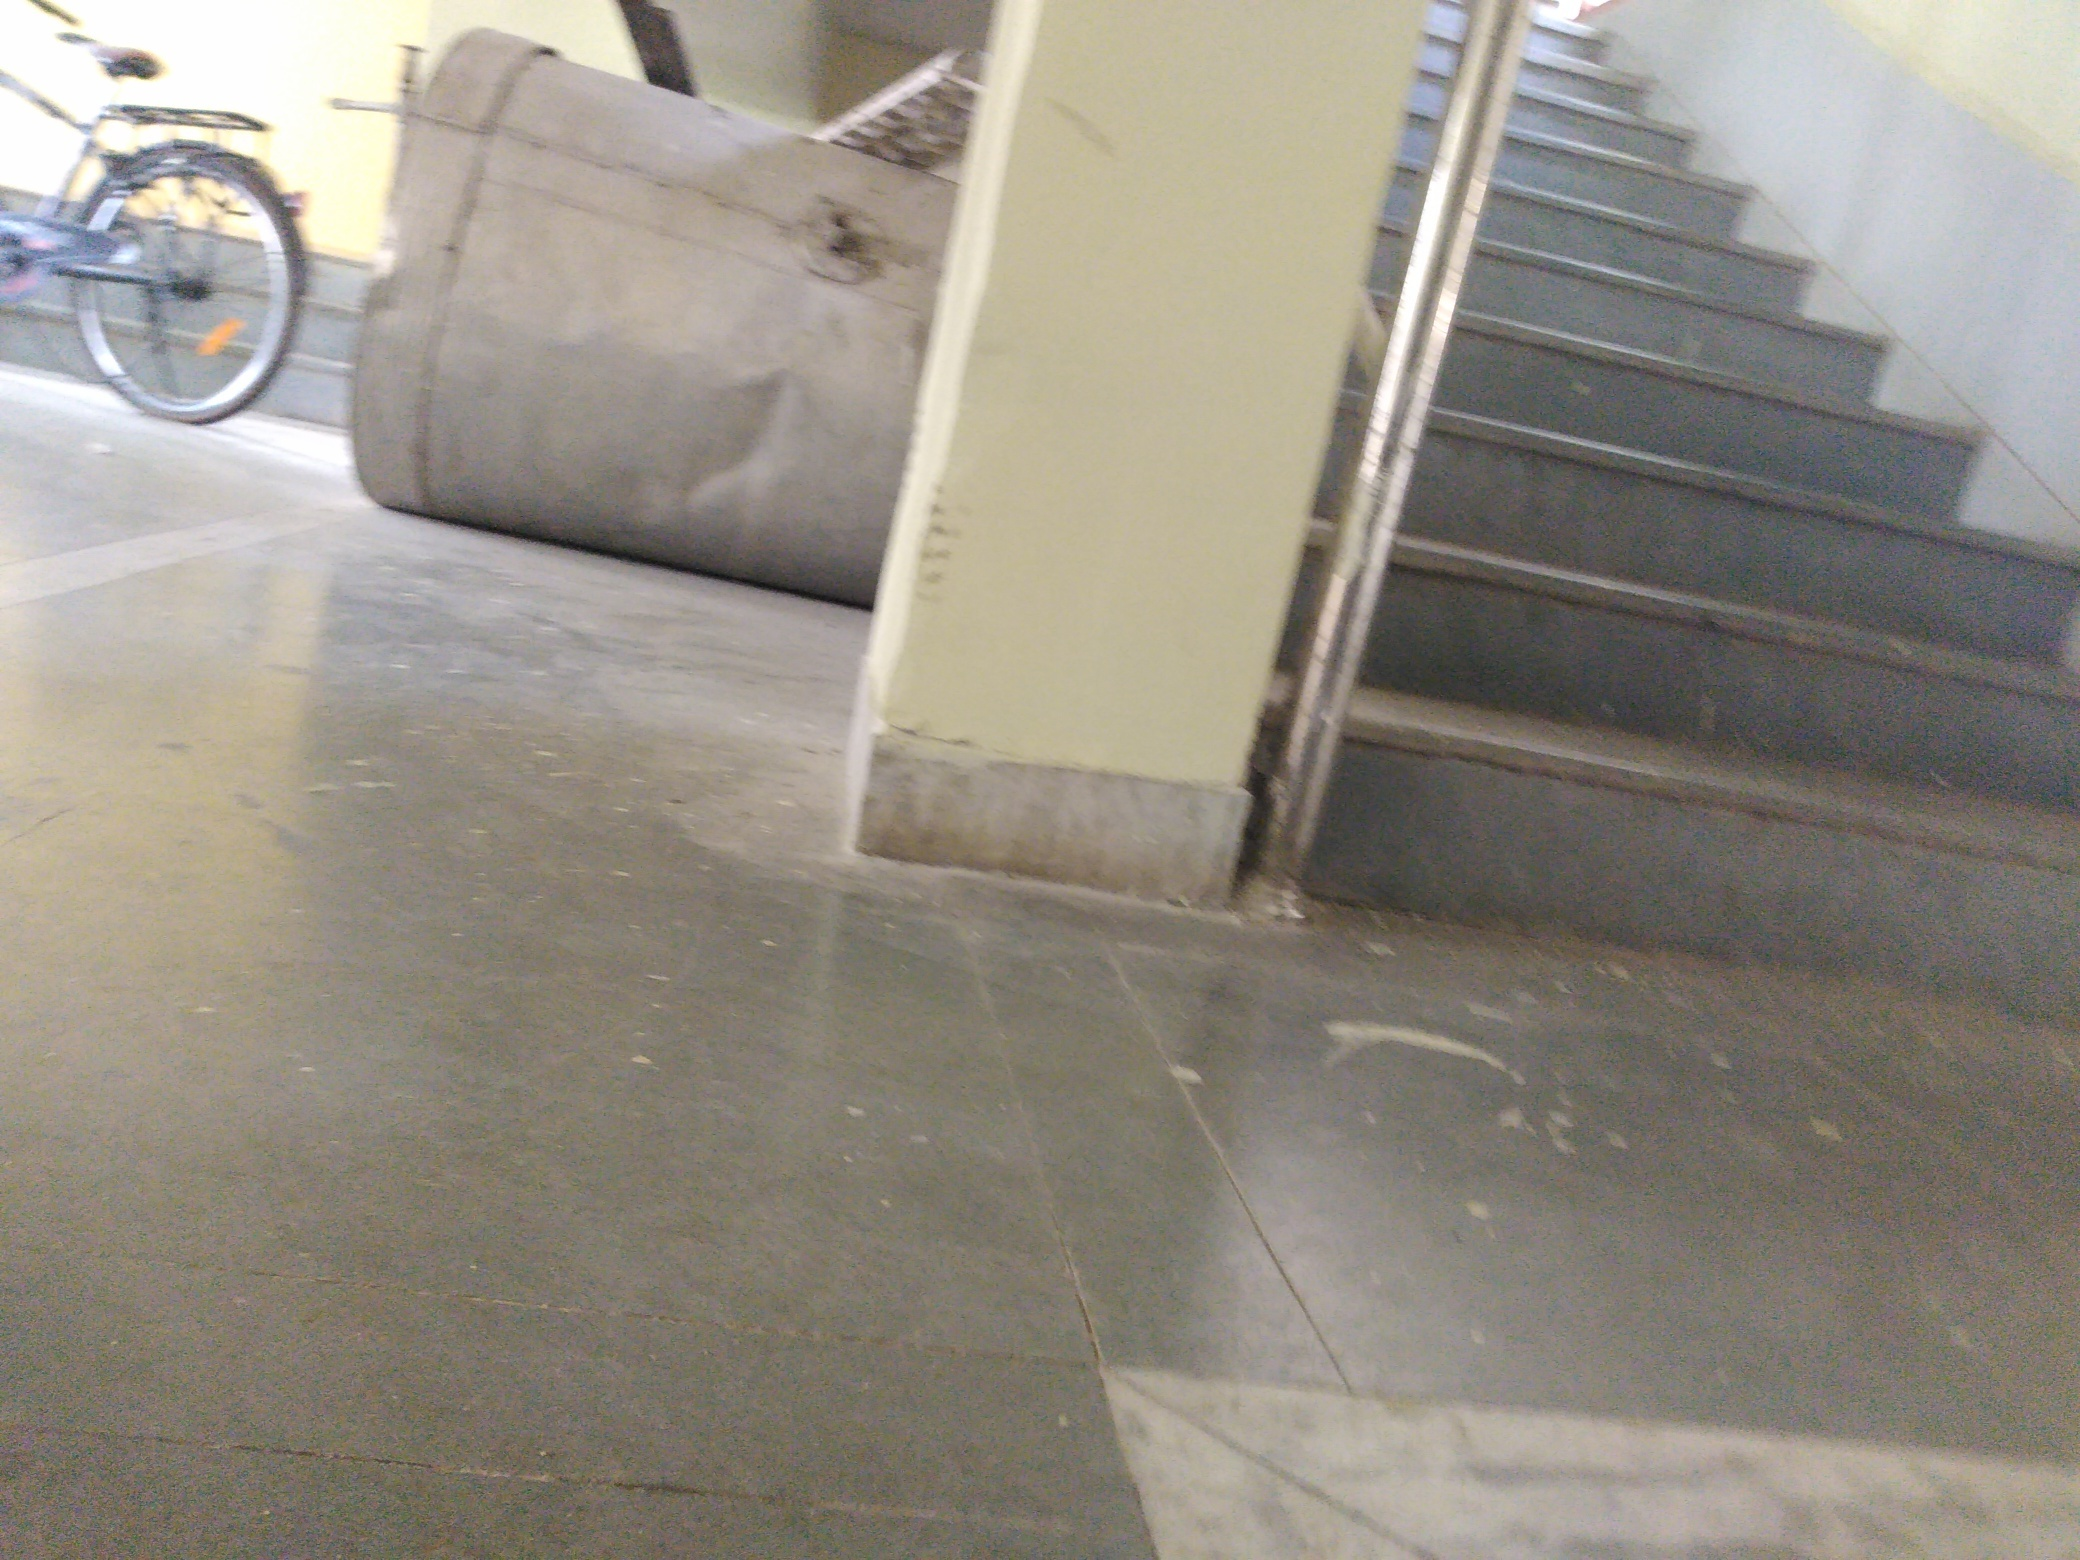stairs_up: (1332, 31, 2080, 1021)
